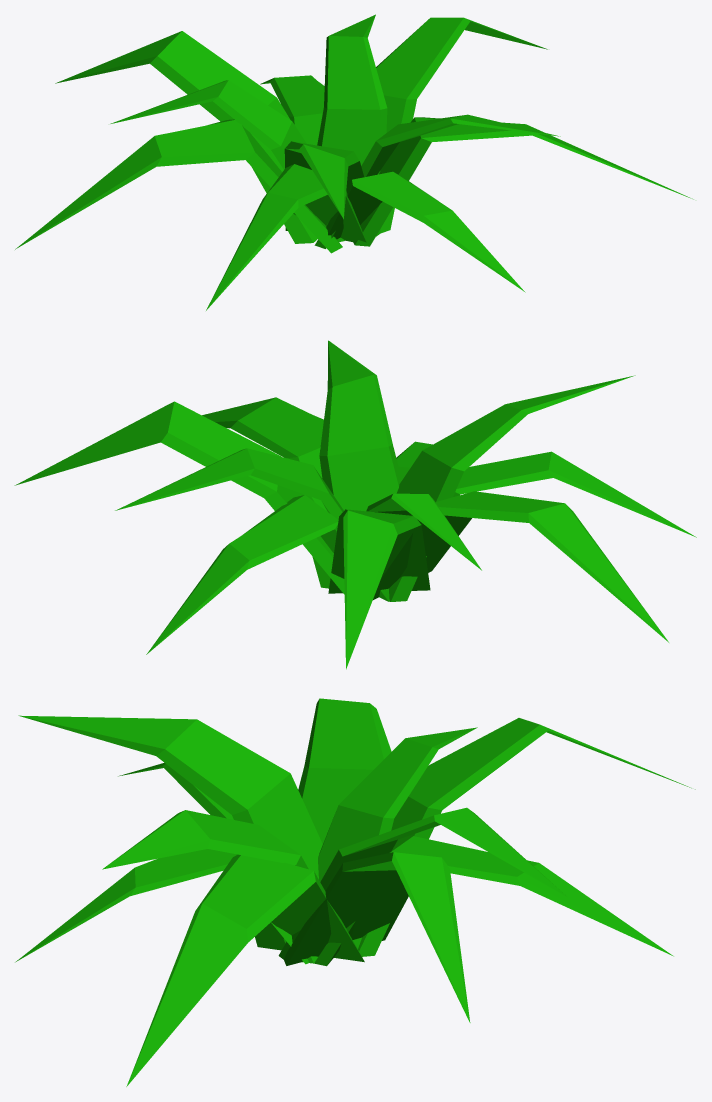
File: bush.fbx
3 views of the same model, one above another, from view 1: azimuth 30°, elevation 25°; view 2: azimuth 150°, elevation 25°; view 3: azimuth 270°, elevation 25° (orthographic). The views are drawn at different scales.
Parts seen in each view (by area): view 1: Grass_bush_low_01; view 2: Grass_bush_low_01; view 3: Grass_bush_low_01.
Boxes of the visible parts, box(x1,y1,x2,y2) form: Grass_bush_low_01: box(15, 14, 693, 310); Grass_bush_low_01: box(14, 340, 696, 669); Grass_bush_low_01: box(15, 698, 695, 1086).
Size of the model in its own units: 130 by 32.47 by 109.
